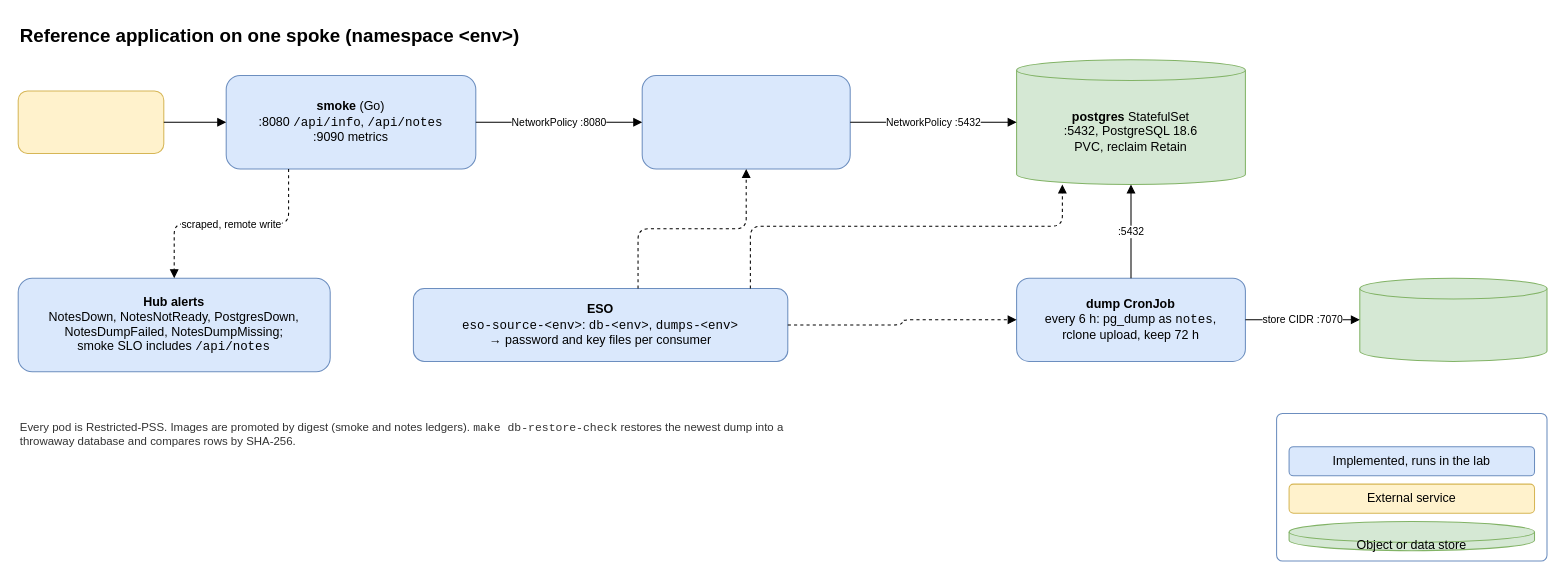
The diagram is 1565 pixels wide and 579 high, and some of its shapes have lost their labels. The shapes that lost their labels are listed below. From the top down, each one's box as (x1, y1, x2, y2) in pixels, then its label:
(17, 90, 164, 153): Client port-forward in the lab
(641, 74, 850, 169): notes (Python) :8080, distroless
(1359, 277, 1547, 361): Lab S3 store bucket dumps-<env>
(1276, 412, 1547, 561): Legend
